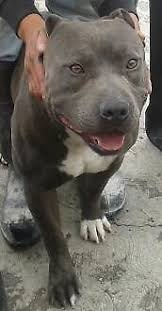Perro Pitbull: (19, 9, 160, 253)
